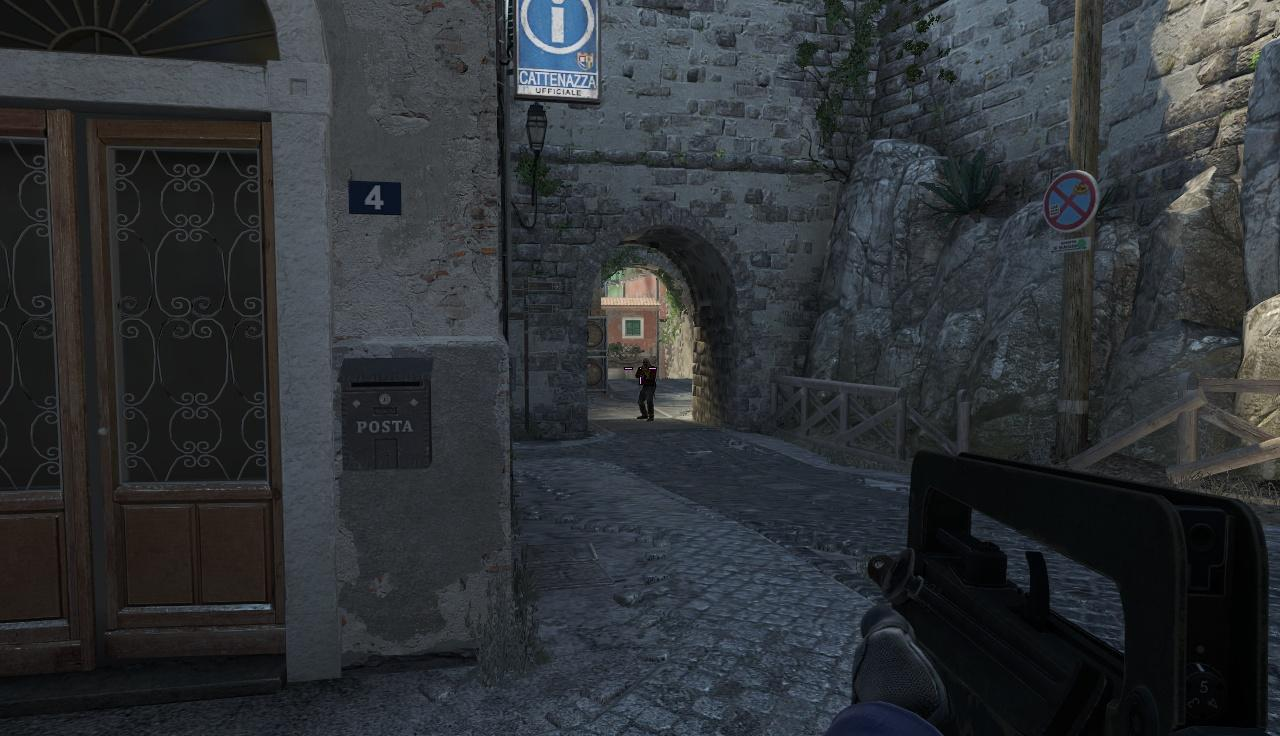rifle: (868, 445, 1280, 732)
tt: (637, 359, 657, 423)
tthead: (642, 359, 652, 370)
